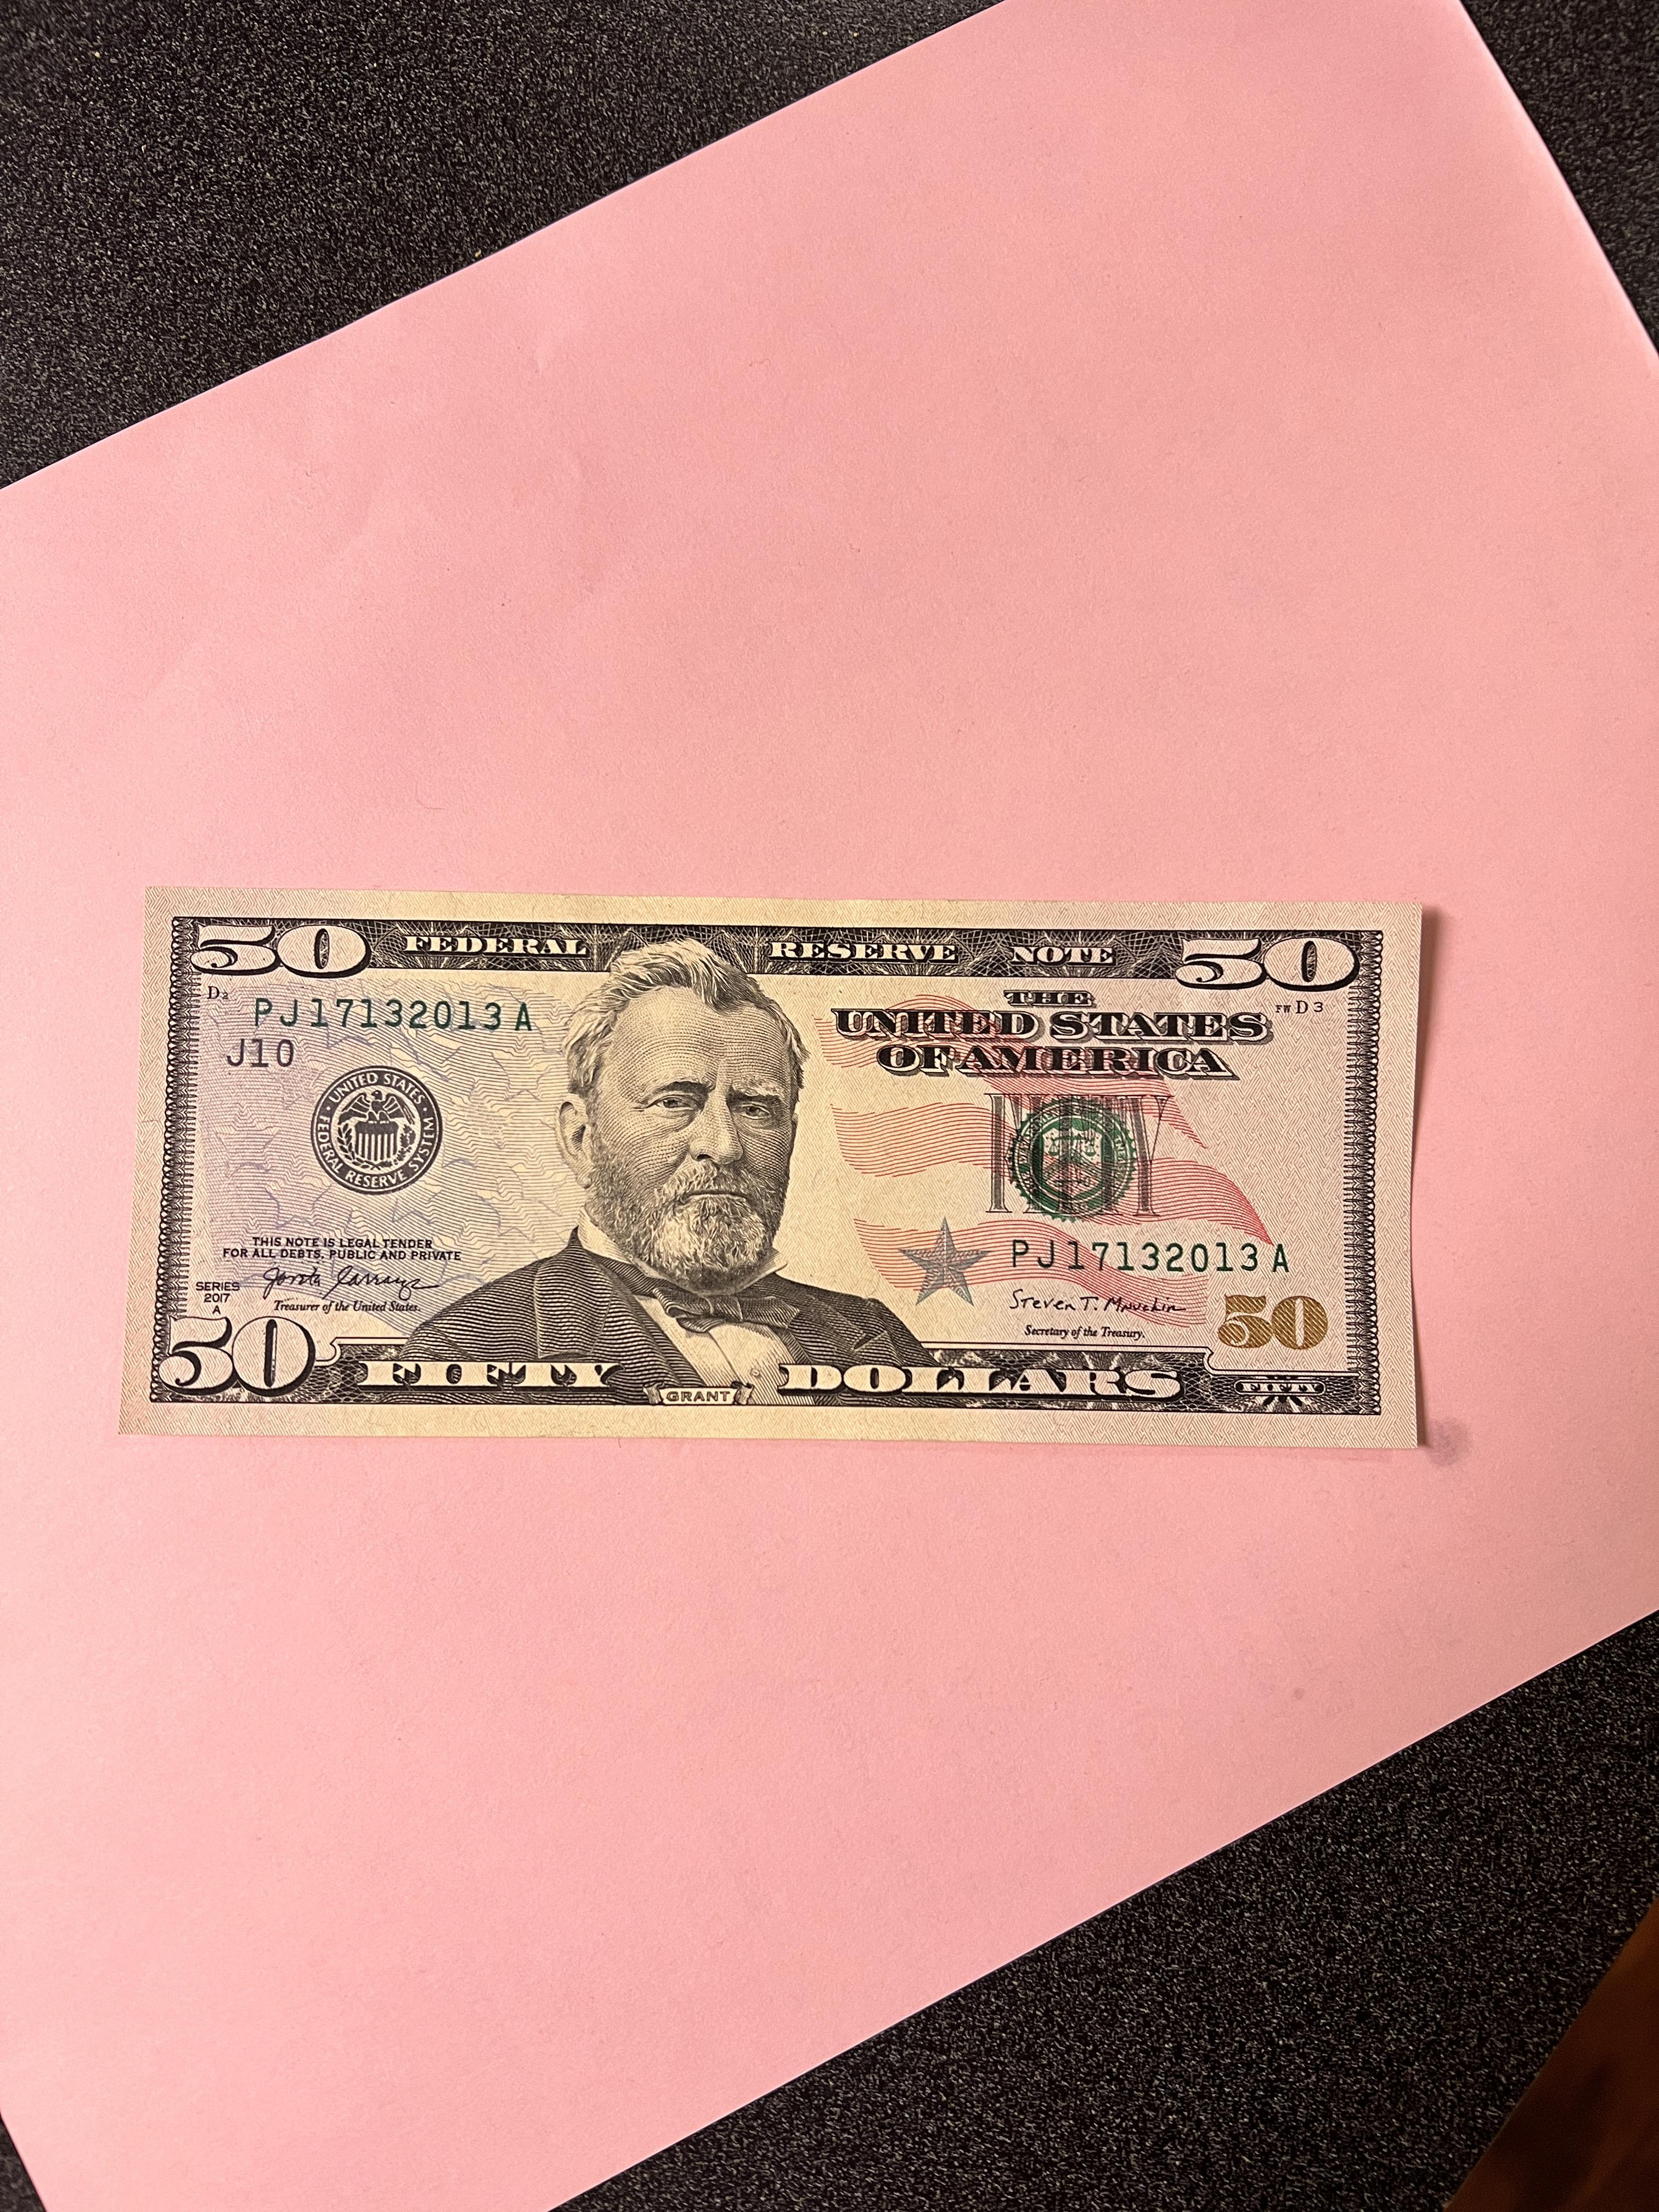FiftyBill: (117, 873, 1453, 1461)
